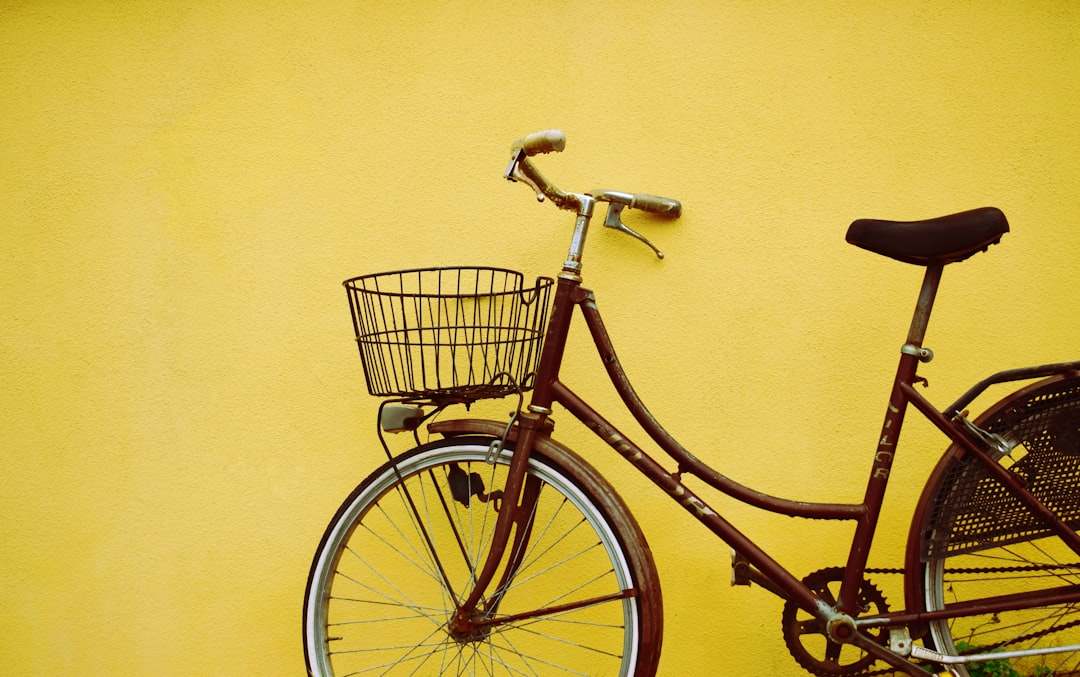bicycle: (302, 130, 1080, 677)
